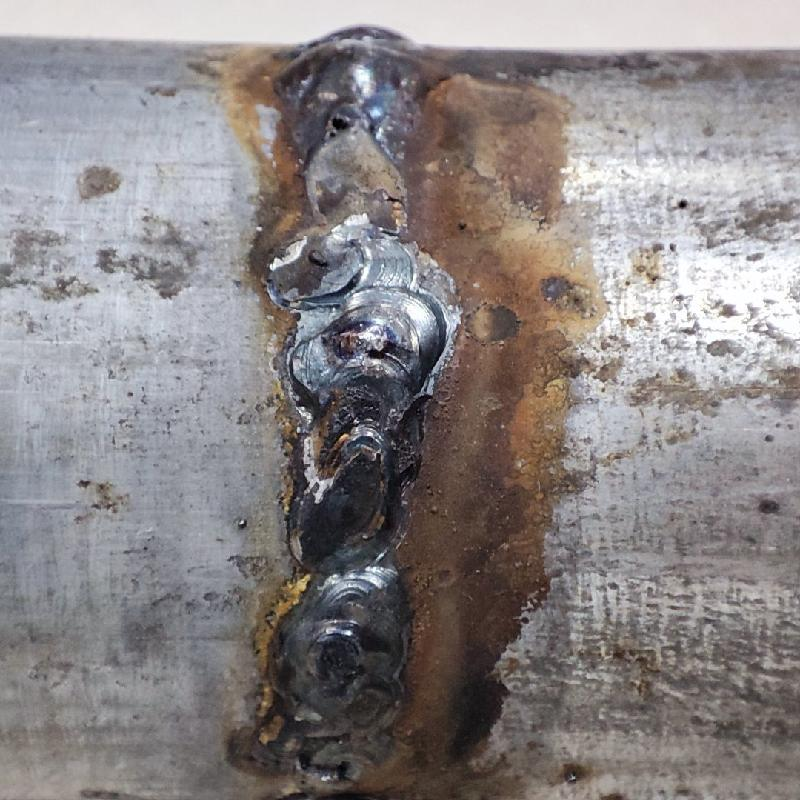Not_fully_soldered: (288, 116, 439, 290)
Surface_pores: (304, 101, 368, 161)
Weld: (261, 14, 430, 150)
wrong_size: (271, 290, 433, 735)
